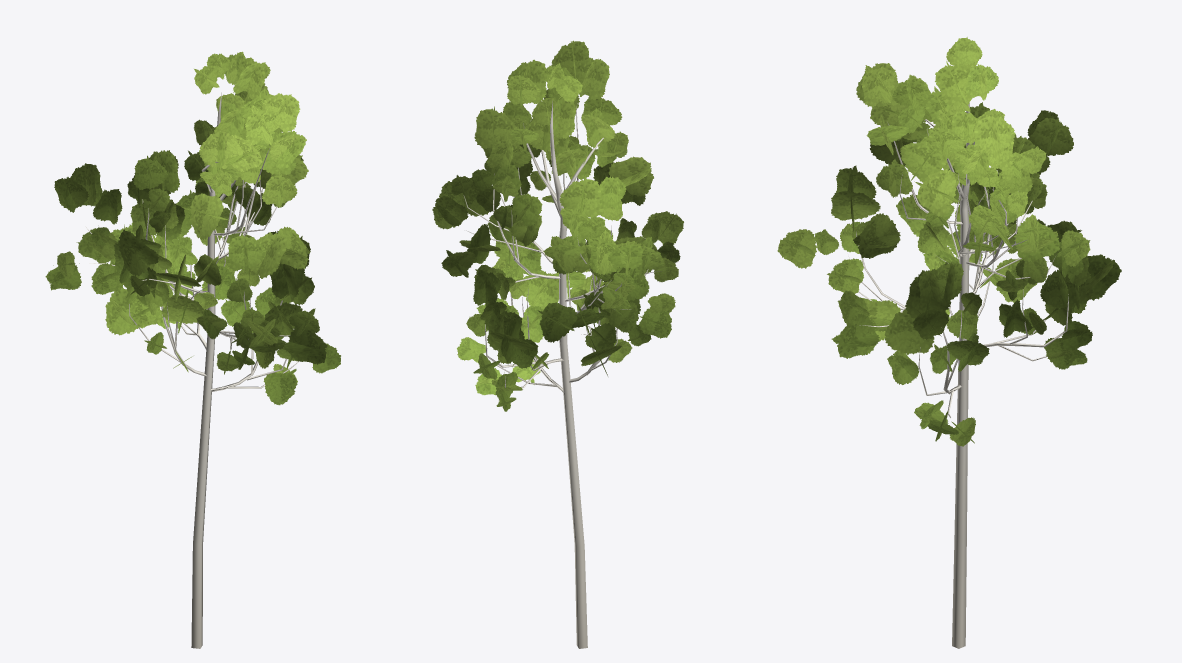
The model's file is abedul-bajo.glb.
3 renders of one model, left to right at view 1: azimuth 30°, elevation 25°; view 2: azimuth 150°, elevation 25°; view 3: azimuth 270°, elevation 25°, orthographic. The views are drawn at different scales.
Parts seen in each view (by area): view 1: abedul; view 2: abedul; view 3: abedul.
Part boxes in pixels (x1,y1,x2,y2): abedul: [45, 51, 340, 648]; abedul: [432, 40, 683, 648]; abedul: [777, 37, 1121, 648].
Bounding box in the file's own units: 7.37 × 14.65 × 8.64.
2 materials, 1 textured.
